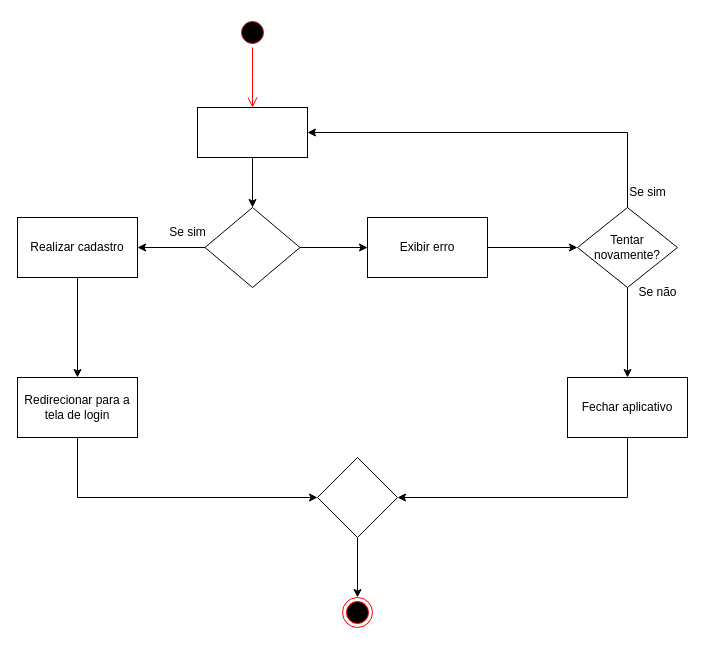
This 705x645 diagram has some shape labels left out. Each missing label, with the centre of its shape:
"Informações validas?" goes at [252,247].
"Inserir informações de login" goes at [252,132].
